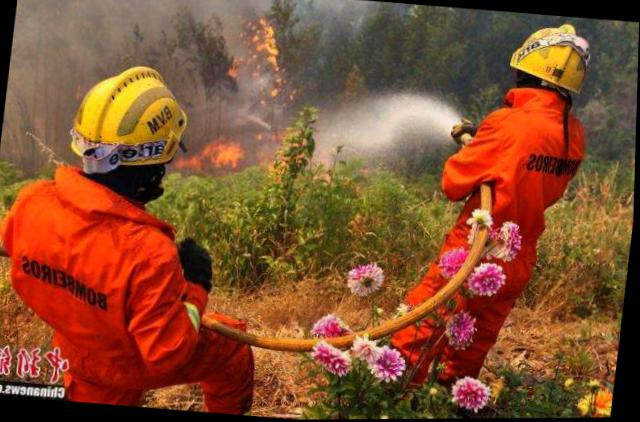fire: (172, 0, 354, 188)
